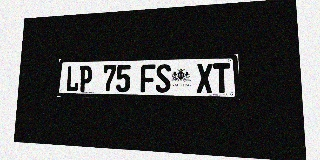5: (116, 65, 131, 92)
7: (102, 65, 116, 92)
F: (140, 64, 155, 93)
L: (66, 66, 79, 92)
P: (78, 65, 93, 92)
S: (156, 64, 171, 93)
T: (213, 63, 231, 93)
X: (196, 63, 213, 93)
